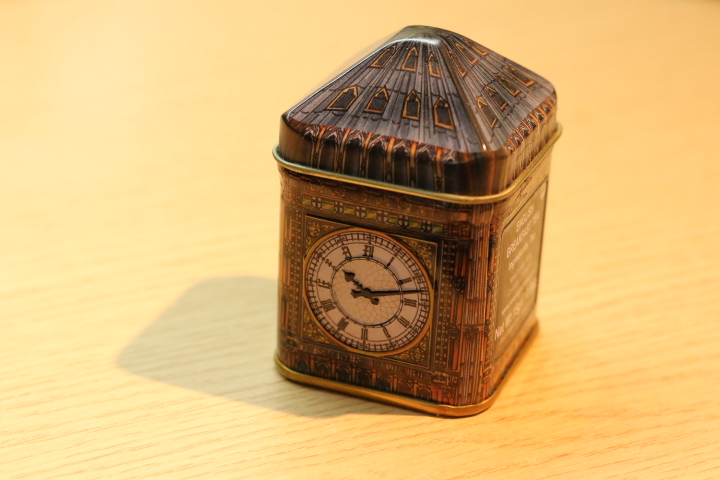Big Ben: (257, 13, 571, 427)
